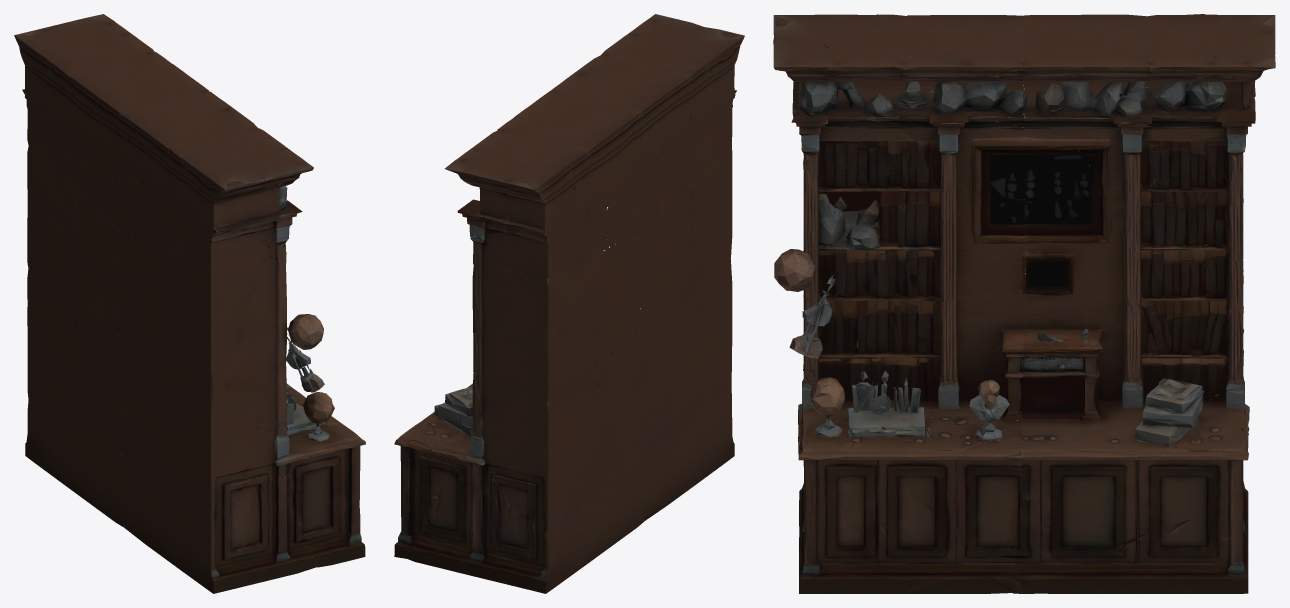
Rendered from Stephans_office_2.fbx.
3 views of the same model, side by side, from view 1: azimuth 30°, elevation 25°; view 2: azimuth 150°, elevation 25°; view 3: azimuth 270°, elevation 25° (orthographic). The views are drawn at different scales.
Parts seen in each view (by area): view 1: Office; view 2: Office; view 3: Office.
Part boxes in pixels (box(x1,y1,x2,y2)): Office: box(14, 14, 365, 593); Office: box(394, 14, 744, 593); Office: box(773, 14, 1275, 593).
Bounding box in the file's own units: 38.88 × 100 × 92.73.
Materials: 1 (1 with a texture image).
